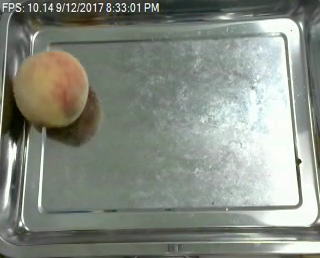Peach: (14, 49, 89, 128)
